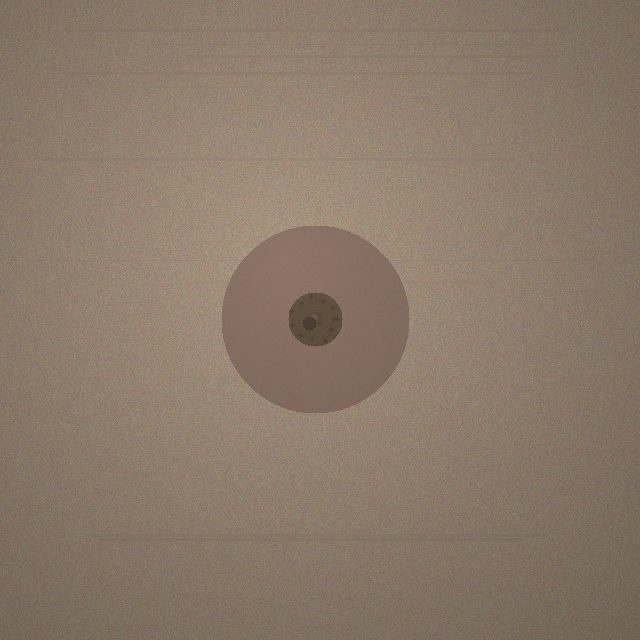cold_weld: (221, 225, 409, 413)
